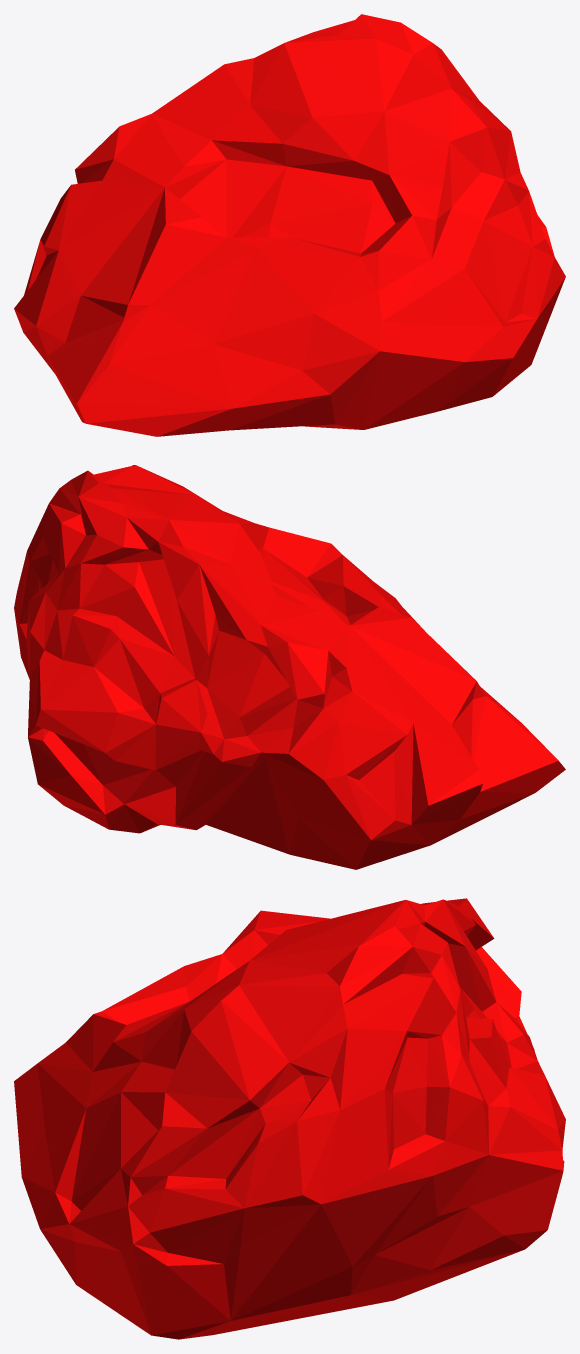
The model's file is meteor_red_form_core_05.glb.
The picture shows the model from 3 angles, top to bottom: view 1: azimuth 30°, elevation 25°; view 2: azimuth 150°, elevation 25°; view 3: azimuth 270°, elevation 25°; orthographic projection. The views are drawn at different scales.
Parts seen in each view (by area): view 1: Mesh1.0; view 2: Mesh1.0; view 3: Mesh1.0.
Boxes of the visible parts, box(x1,y1,x2,y2) form: Mesh1.0: box(14, 14, 565, 436); Mesh1.0: box(14, 465, 565, 869); Mesh1.0: box(14, 898, 565, 1339).
Bounding box in the file's own units: 1.91 × 1.2 × 1.53.
